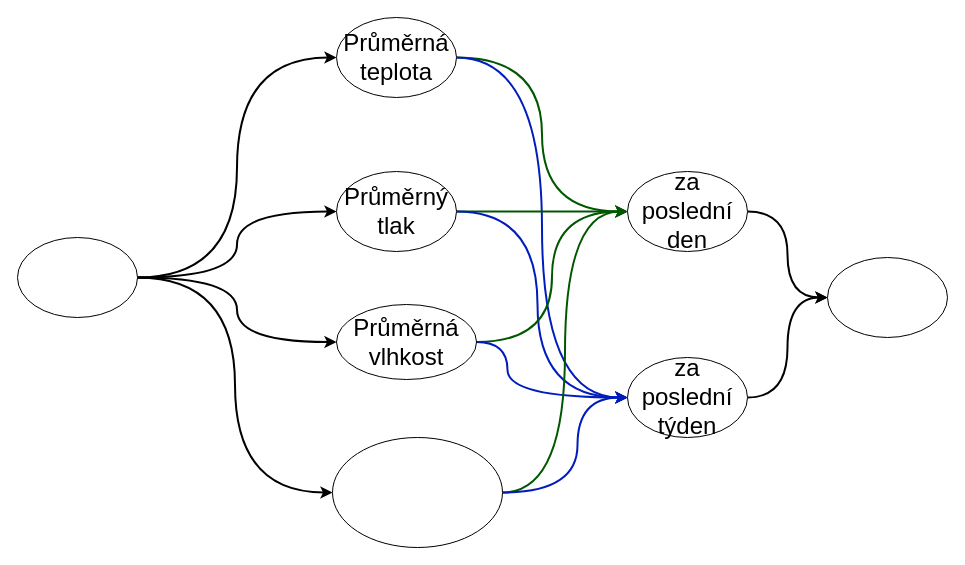
Image size: 965x565. Some labels were removed from this diagram. Here are the shapes that lost their labels. From the top down, the centre of each, then its label:
(x=77, y=277): START
(x=887, y=297): END
(x=417, y=492): Průměrná intenzita světelnosti
